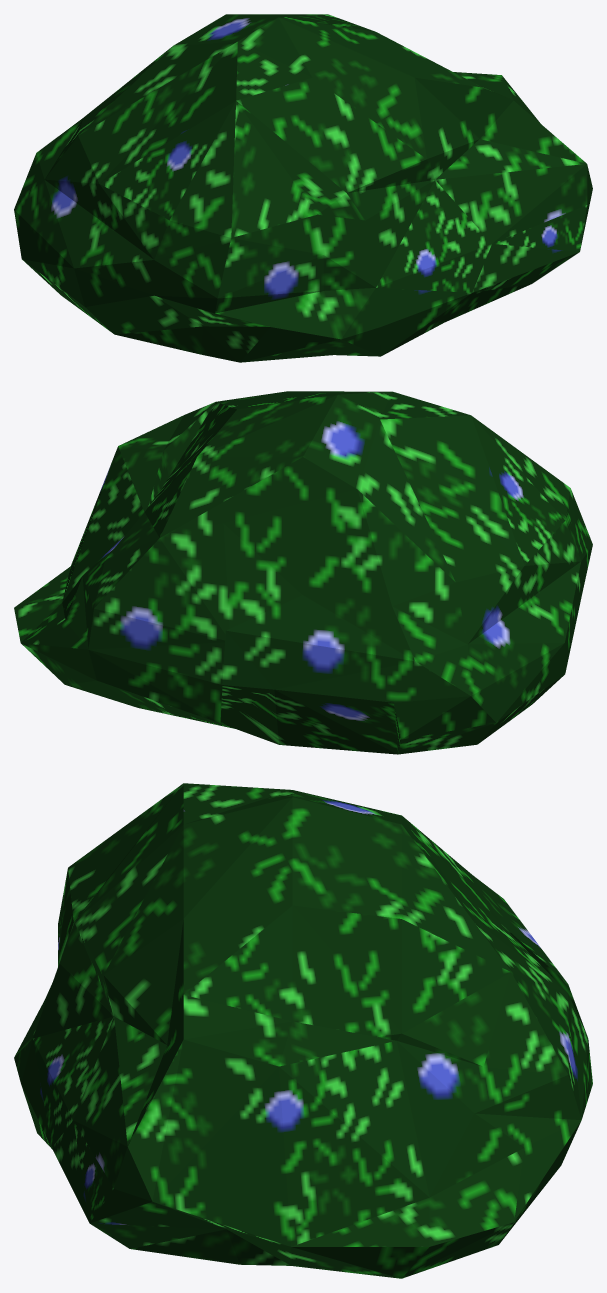
Rendered from Arbusto Chico.fbx.
3 views of the same model, one above another, from view 1: azimuth 30°, elevation 25°; view 2: azimuth 150°, elevation 25°; view 3: azimuth 270°, elevation 25° (orthographic). The views are drawn at different scales.
Visible parts, largest first — view 1: Cube.001; view 2: Cube.001; view 3: Cube.001.
Part boxes in pixels (x1,y1,x2,y2): Cube.001: [14, 14, 592, 362]; Cube.001: [14, 391, 592, 754]; Cube.001: [14, 783, 592, 1278].
Bounding box in the file's own units: 395 × 333 × 213.
1 material, 1 textured.
